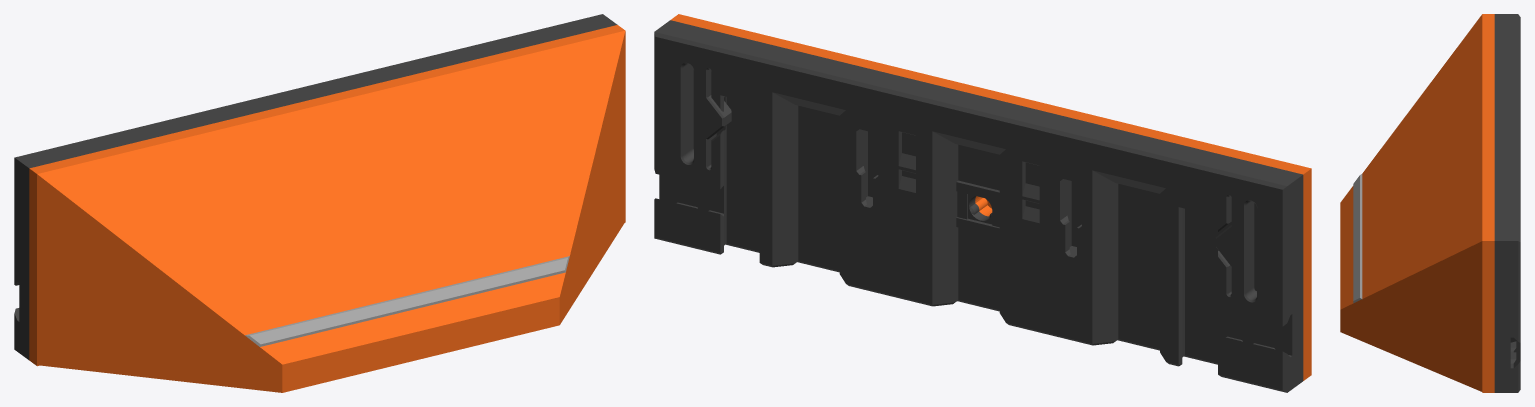
Rendered from Faceplate_ClassicDecor_1W-05H.lib.glb.
3 views of the same model, side by side, from view 1: azimuth 30°, elevation 25°; view 2: azimuth 150°, elevation 25°; view 3: azimuth 270°, elevation 25° (orthographic). The views are drawn at different scales.
Visible parts, largest first — view 1: Faceplate_ClassicDecor_1W-05H; view 2: Faceplate_ClassicDecor_1W-05H; view 3: Faceplate_ClassicDecor_1W-05H.
Boxes of the visible parts, box(x1,y1,x2,y2) form: Faceplate_ClassicDecor_1W-05H: box(14, 14, 625, 392); Faceplate_ClassicDecor_1W-05H: box(654, 14, 1311, 392); Faceplate_ClassicDecor_1W-05H: box(1340, 14, 1520, 392).
Size of the model in its own units: 87 by 27.15 by 29.2.
